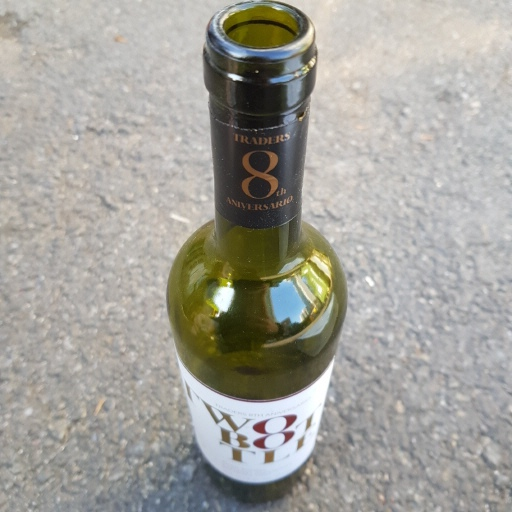Glass_2: (162, 2, 349, 502)
